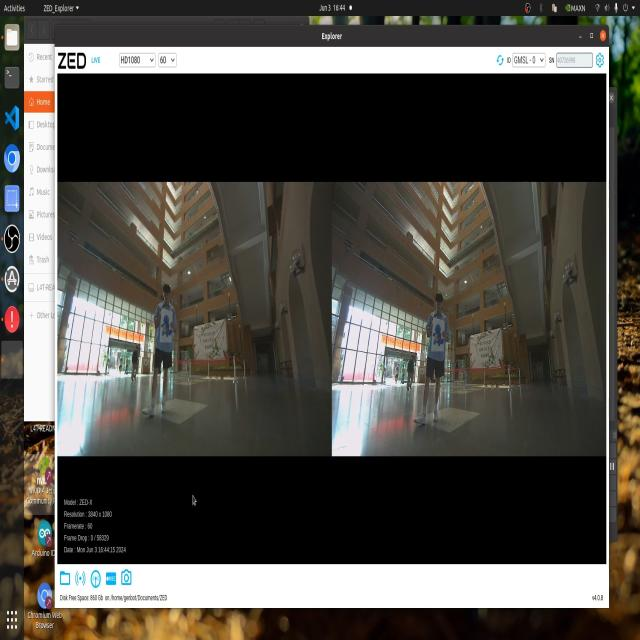blue: (433, 321, 448, 352), (160, 312, 173, 342)
